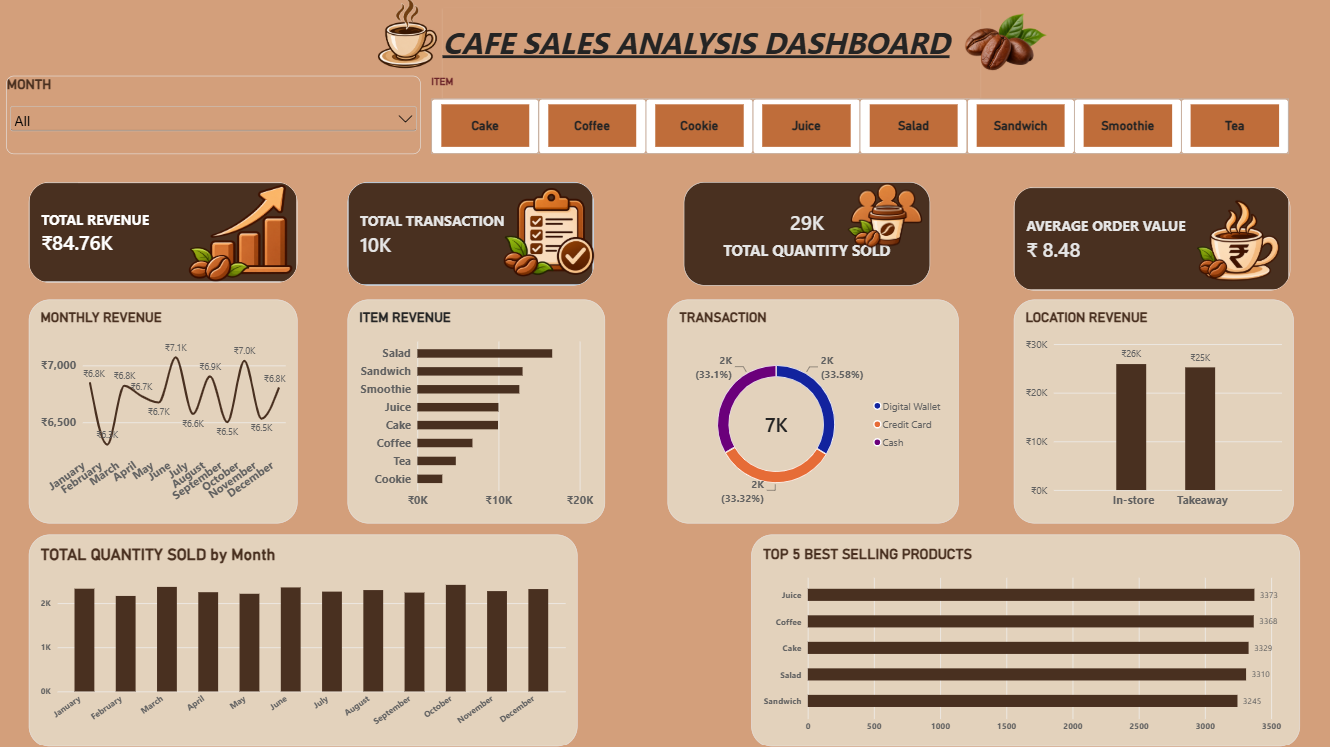

The page's visual inventory and layout, read from the dashboard file:
{"tool":"powerbi","page":{"name":"Page 1","canvas":[1920,1080],"ordinal":0},"visuals":[{"type":"cardVisual","fields":{"Data":["clean_cafe_sales.TOTAL REVENUE"]},"box":[48,264,384,144],"z":0},{"type":"cardVisual","fields":{"Data":["clean_cafe_sales.TOTAL TRANSACTION"]},"box":[504,264,352,148],"z":1000},{"type":"card","fields":{"Values":["clean_cafe_sales.TOTAL QUANTITY SOLD"]},"box":[984,264,352,148],"z":2000},{"type":"cardVisual","fields":{"Data":["clean_cafe_sales.AVERAGE ORDER VALUE"]},"box":[1456,272,394.9,148],"z":3000},{"type":"lineChart","title":"MONTHLY REVENUE","fields":{"Category":["clean_cafe_sales.Month"],"Y":["clean_cafe_sales.TOTAL REVENUE"]},"box":[48,432,384,320],"z":4000},{"type":"clusteredBarChart","title":"ITEM REVENUE","fields":{"Category":["clean_cafe_sales.Item"],"Y":["clean_cafe_sales.TOTAL REVENUE"]},"box":[504,432,368,320],"z":5000},{"type":"donutChart","title":" TRANSACTION","fields":{"Category":["clean_cafe_sales.Payment Method"],"Y":["clean_cafe_sales.TOTAL TRANSACTION"]},"box":[960,432,416,320],"z":6000},{"type":"clusteredColumnChart","title":"LOCATION REVENUE","fields":{"Category":["clean_cafe_sales.Location"],"Y":["clean_cafe_sales.TOTAL REVENUE"]},"box":[1456,432,400,320],"z":7000},{"type":"clusteredColumnChart","fields":{"Category":["clean_cafe_sales.Month"],"Y":["clean_cafe_sales.TOTAL QUANTITY SOLD"]},"box":[48,768,784,304],"z":8000},{"type":"slicer","title":"MONTH","fields":{"Values":["clean_cafe_sales.Month"]},"box":[16,112,592,112],"z":9000},{"type":"advancedSlicerVisual","title":"ITEM","fields":{"Values":["clean_cafe_sales.Item"]},"box":[624,112,1232,112],"z":10000},{"type":"clusteredBarChart","title":"TOP 5 BEST SELLING PRODUCTS","fields":{"Category":["clean_cafe_sales.Item"],"Y":["clean_cafe_sales.TOTAL QUANTITY SOLD"]},"box":[1080,768,784,304],"z":11000},{"type":"textbox","box":[640,16,768,128],"z":13000},{"type":"image","box":[384,0,416,112],"z":13001},{"type":"image","box":[1312,16,256,96],"z":13002},{"type":"image","box":[1656,288,240,120],"z":13003},{"type":"image","box":[120,264,456,144],"z":13004},{"type":"image","box":[720,144,144,384],"z":13005},{"type":"image","box":[1032,264,480,96],"z":13006}]}

Visuals, with their boxes in screenshot pixels (x1, y1, x2, y2), scaled from the page's 1920x1080 canvas onto the 1330x747 screenshot:
cardVisual - clean_cafe_sales.TOTAL REVENUE: select_region(33, 183, 299, 282)
cardVisual - clean_cafe_sales.TOTAL TRANSACTION: select_region(349, 183, 593, 285)
card - clean_cafe_sales.TOTAL QUANTITY SOLD: select_region(682, 183, 925, 285)
cardVisual - clean_cafe_sales.AVERAGE ORDER VALUE: select_region(1009, 188, 1282, 290)
"MONTHLY REVENUE" lineChart: select_region(33, 299, 299, 520)
"ITEM REVENUE" clusteredBarChart: select_region(349, 299, 604, 520)
" TRANSACTION" donutChart: select_region(665, 299, 953, 520)
"LOCATION REVENUE" clusteredColumnChart: select_region(1009, 299, 1286, 520)
clusteredColumnChart - clean_cafe_sales.Month x clean_cafe_sales.TOTAL QUANTITY SOLD: select_region(33, 531, 576, 741)
"MONTH" slicer: select_region(11, 77, 421, 155)
"ITEM" advancedSlicerVisual: select_region(432, 77, 1286, 155)
"TOP 5 BEST SELLING PRODUCTS" clusteredBarChart: select_region(748, 531, 1291, 741)
textbox: select_region(443, 11, 975, 100)
image: select_region(266, 0, 554, 77)
image: select_region(909, 11, 1086, 77)
image: select_region(1147, 199, 1313, 282)
image: select_region(83, 183, 399, 282)
image: select_region(499, 100, 598, 365)
image: select_region(715, 183, 1047, 249)
